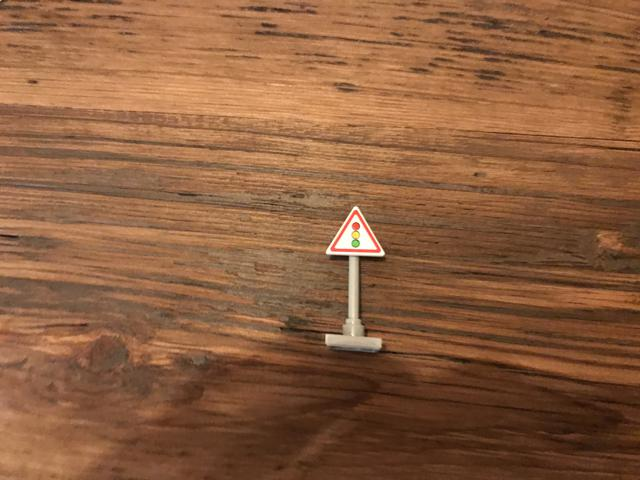lichtzeichenanlage: (324, 205, 387, 257)
